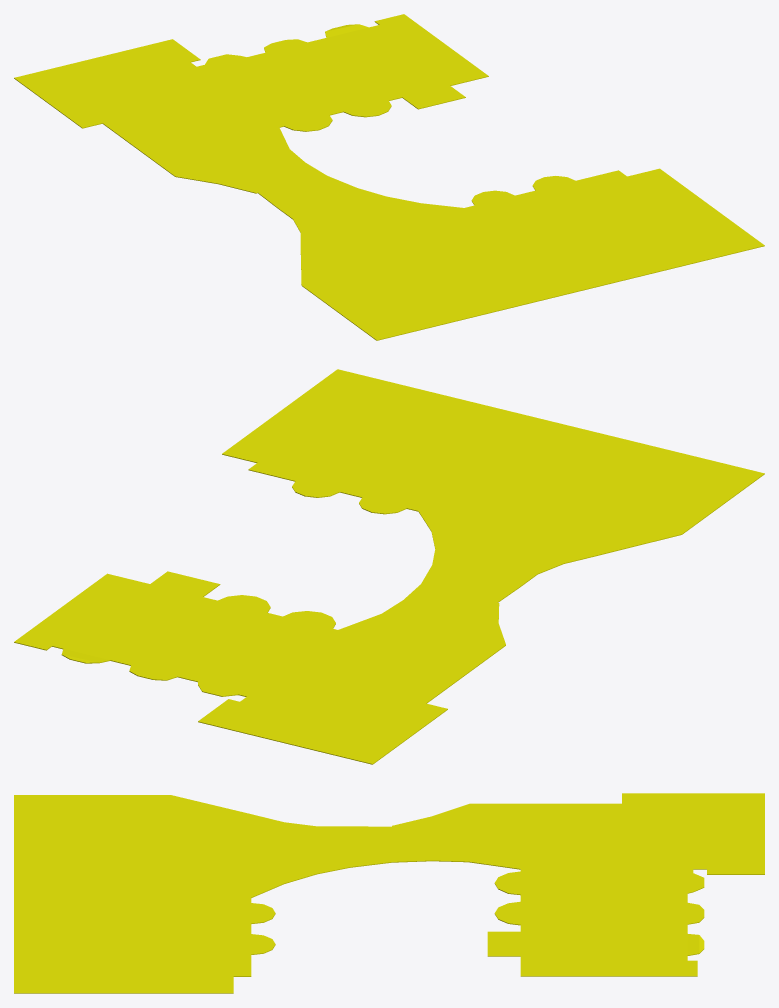
The model's file is sm_hana_building_1f_ceiling.glb.
3 renders of one model, top to bottom at view 1: azimuth 30°, elevation 25°; view 2: azimuth 150°, elevation 25°; view 3: azimuth 270°, elevation 25°, orthographic. The views are drawn at different scales.
Visible parts, largest first — view 1: sm_hana_building_1f_ceiling; view 2: sm_hana_building_1f_ceiling; view 3: sm_hana_building_1f_ceiling.
Boxes of the visible parts, x1,y1,x2,y2 form: sm_hana_building_1f_ceiling: [14, 14, 764, 340]; sm_hana_building_1f_ceiling: [14, 369, 764, 764]; sm_hana_building_1f_ceiling: [14, 793, 764, 993].
Bounding box in the file's own units: 62.04 × 0.247 × 98.7.
1 material, 1 textured.
